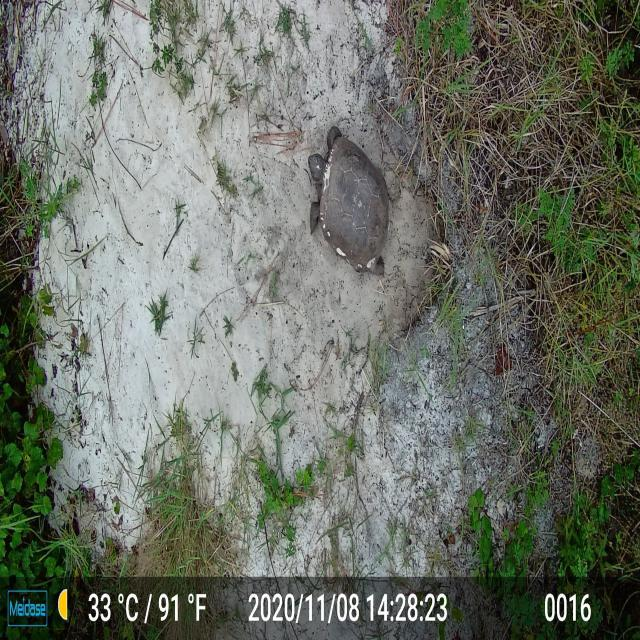tortoise: (305, 123, 390, 281)
